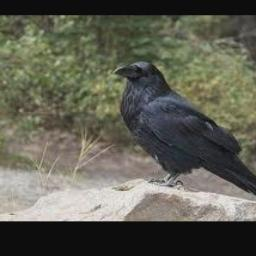Crow: (111, 60, 256, 206)
